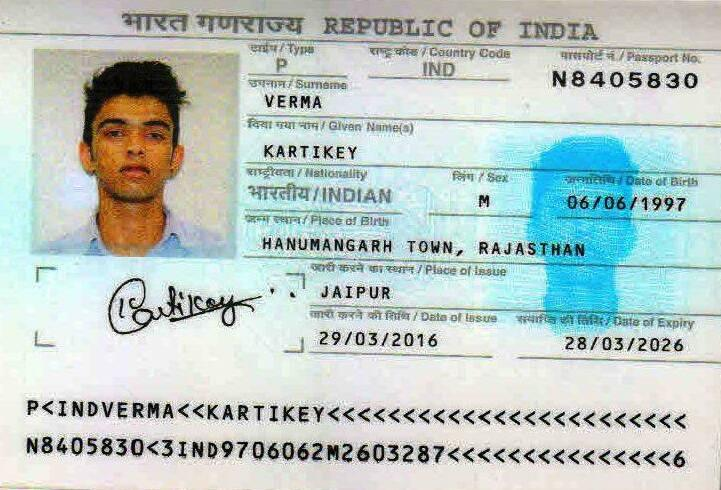DOB: (552, 189, 712, 223)
Surname: (253, 88, 337, 117)
country_code: (408, 58, 483, 85)
date_of_expiry: (551, 331, 712, 362)
date_of_issue: (313, 327, 457, 361)
details: (15, 387, 703, 479)
name: (246, 137, 374, 169)
nationality: (246, 180, 406, 213)
passport_no: (544, 64, 712, 98)
photo: (37, 49, 238, 258)
place_of_birth: (253, 230, 580, 262)
place_of_issue: (311, 274, 437, 306)
sex: (457, 189, 515, 219)
sign: (65, 278, 289, 342)
type: (257, 52, 323, 77)
